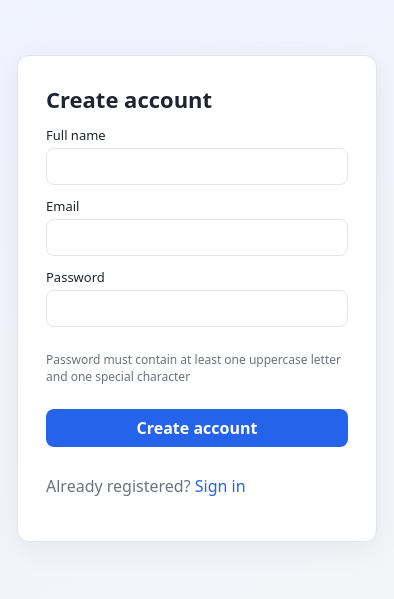
Test: RegisterPage › shows an error and stays on the page when registration fails
Type "New User" into the field labelled "Full name".
click(197, 166); type("New User")  # box x1=46 y1=148 x2=348 y2=184
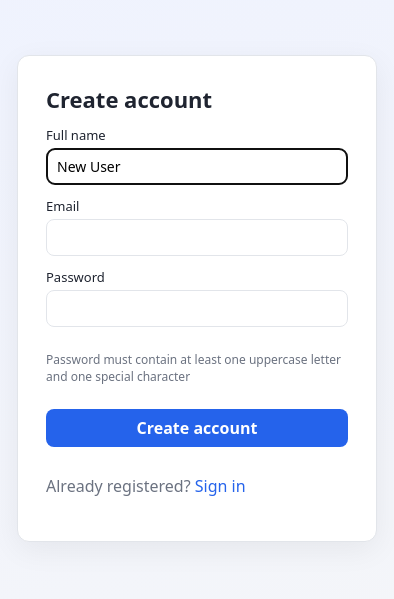
Type "new@example.com" into the field labelled "Email".
click(197, 237); type("new@example.com")  # box x1=46 y1=218 x2=348 y2=256
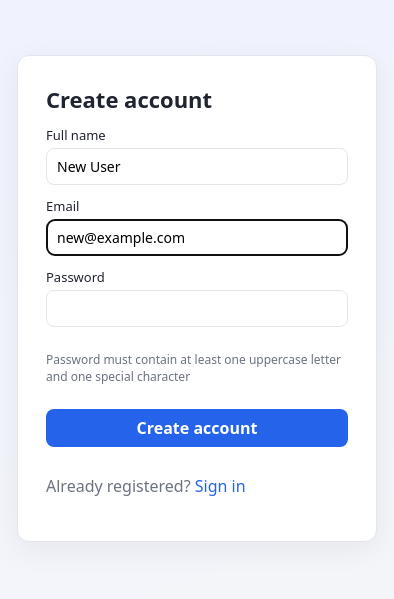
Type "Password123!" into the password field labelled "Password".
click(197, 308); type("Password123!")  # box x1=46 y1=290 x2=348 y2=326
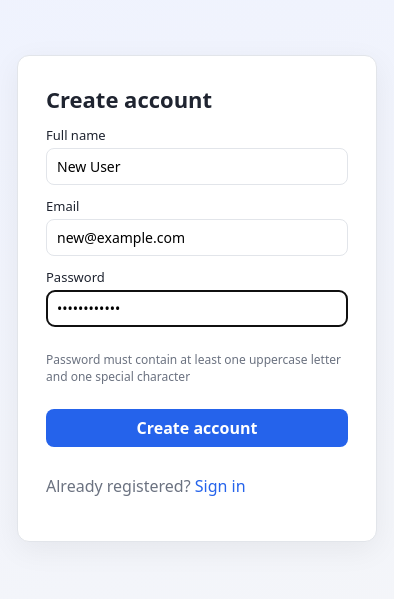
Click the button "Create account".
click(197, 428)  # box x1=46 y1=408 x2=348 y2=446
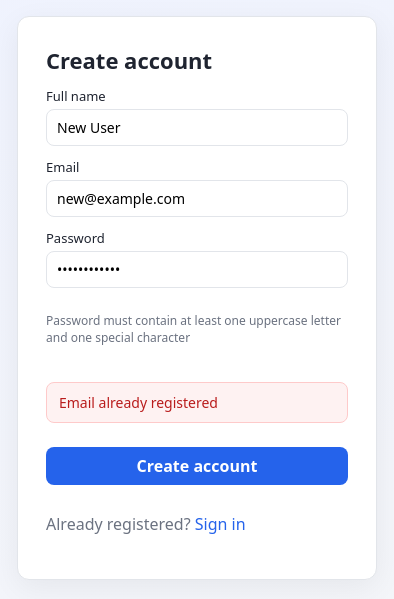
Check: the text "Email already registered" is shown, box x1=46 y1=382 x2=348 y2=423
